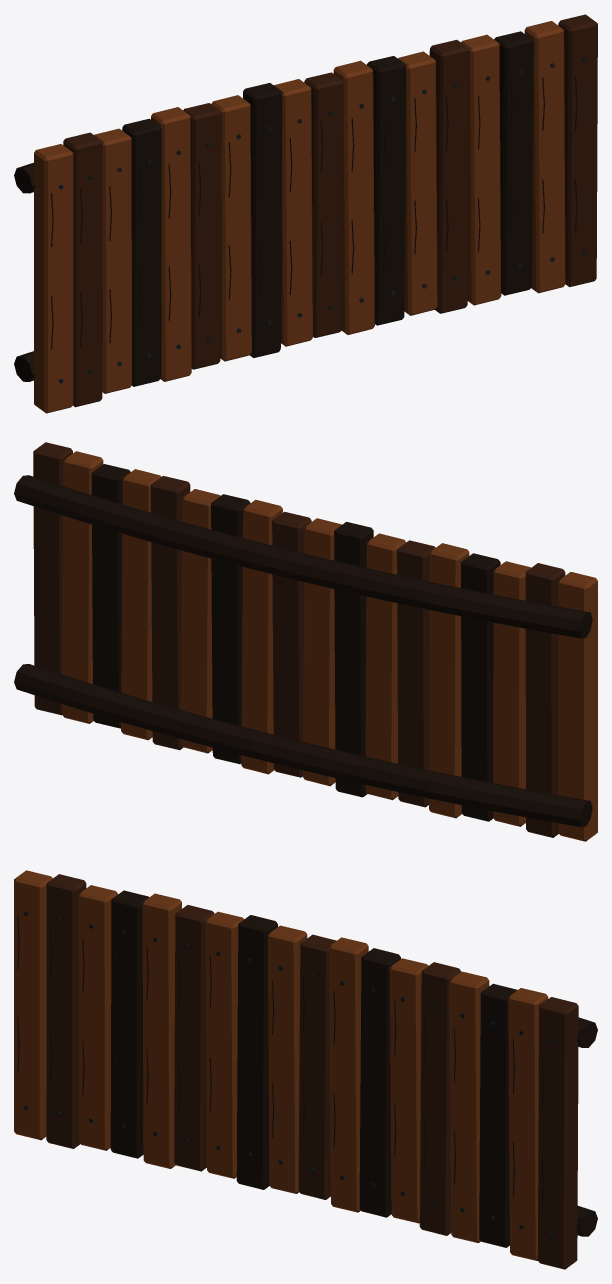
File: BridgeDeck.obj
The picture shows the model from 3 angles, top to bottom: view 1: azimuth 30°, elevation 25°; view 2: azimuth 150°, elevation 25°; view 3: azimuth 330°, elevation 25°; orthographic projection.
Visible parts, largest first — view 1: BridgeDeck; view 2: BridgeDeck; view 3: BridgeDeck.
Boxes of the visible parts, left/top/right/bottom form: BridgeDeck: left=14, top=14, right=597, bottom=413; BridgeDeck: left=14, top=442, right=597, bottom=841; BridgeDeck: left=14, top=870, right=597, bottom=1269.
Bounding box in the file's own units: 440 × 195 × 52.
